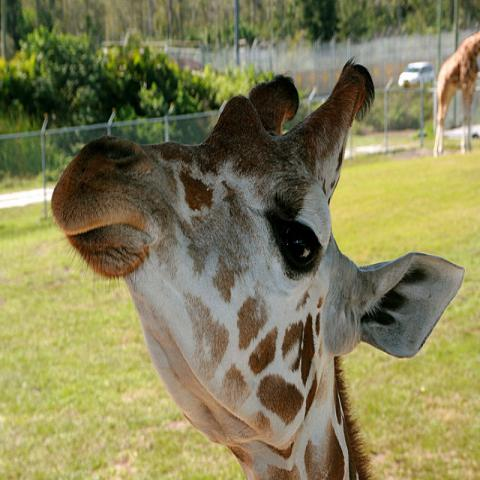car: (398, 62, 434, 87)
